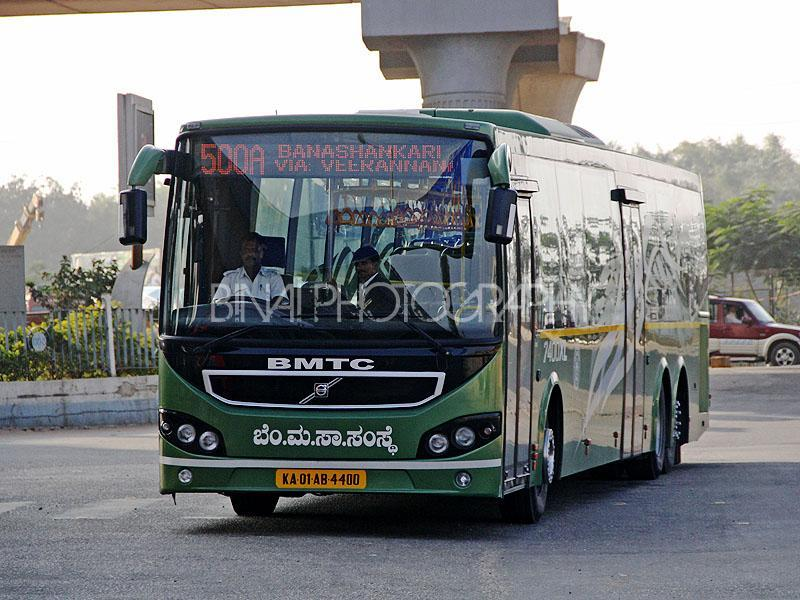Bus: (122, 105, 711, 525)
